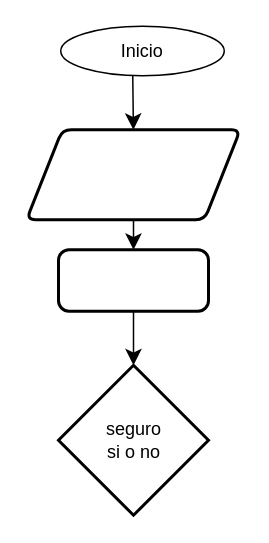
The diagram is 269 pixels wide and 543 high, and some of its shapes have lost their labels. Here are the shapes that lost their labels. From the top down, the centre of each, then its label:
At point 132,174: "Ubicación de los elementos".
At point 132,280: "$Ubicación".
